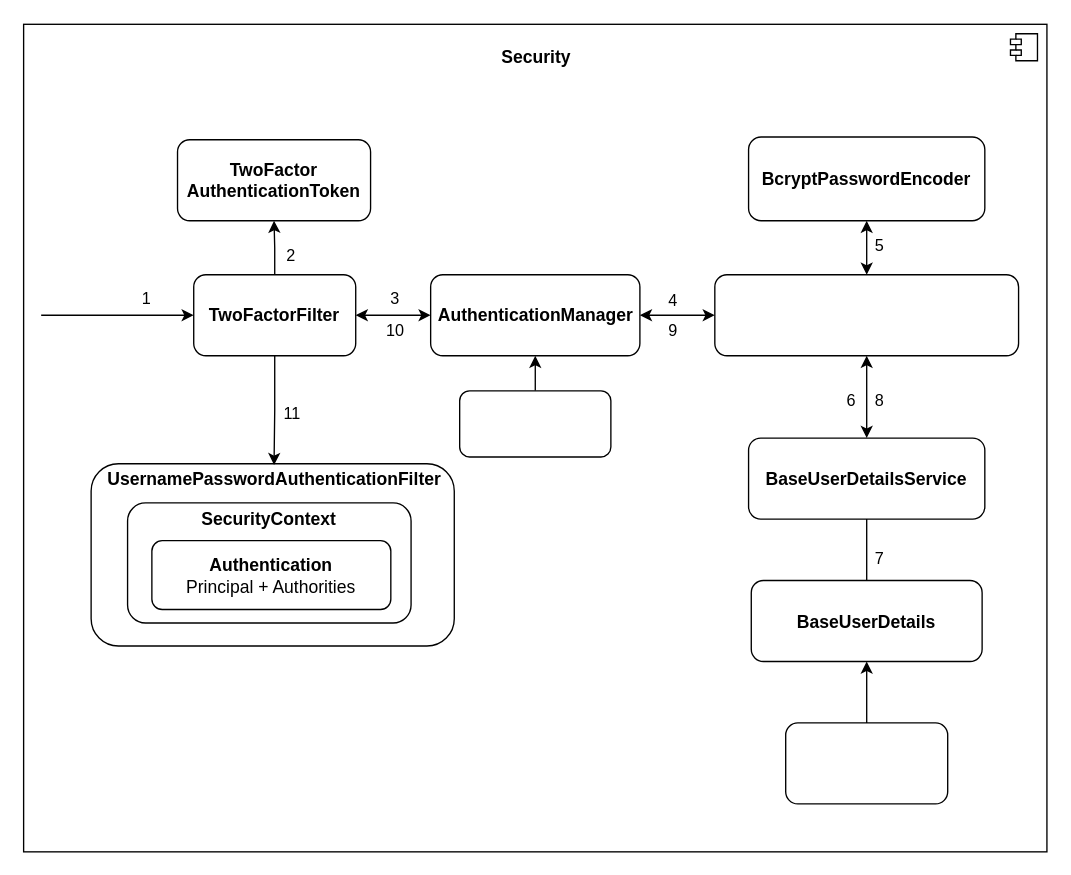
Image size: 1071x875. Some labels were removed from this diagram. The shapes that lost their labels are listed below. From the top down, each one's centre as x and y in pixels, then its label:
At (x=866, y=314): "TwoFactorAuthenticationProvider".
At (x=534, y=423): "Providermanager".
At (x=866, y=763): "UserEntity".
